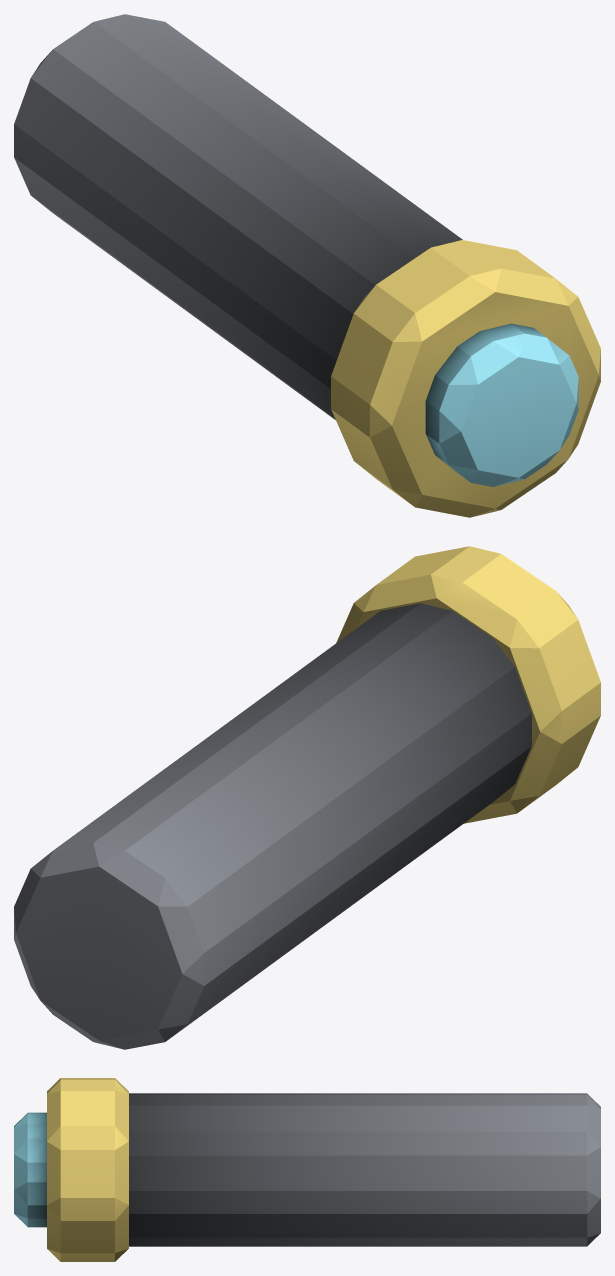
The model's file is AttLaserBlue.fbx.
The picture shows the model from 3 angles, top to bottom: view 1: azimuth 30°, elevation 25°; view 2: azimuth 150°, elevation 25°; view 3: azimuth 270°, elevation 25°; orthographic projection. The views are drawn at different scales.
Parts seen in each view (by area): view 1: Body; view 2: Body; view 3: Body.
Boxes of the visible parts, x1,y1,x2,y2 form: Body: (14,14,600,517); Body: (14,546,600,1049); Body: (14,1078,600,1261).
Size of the model in its own units: 0.0454 by 0.0454 by 0.143.
